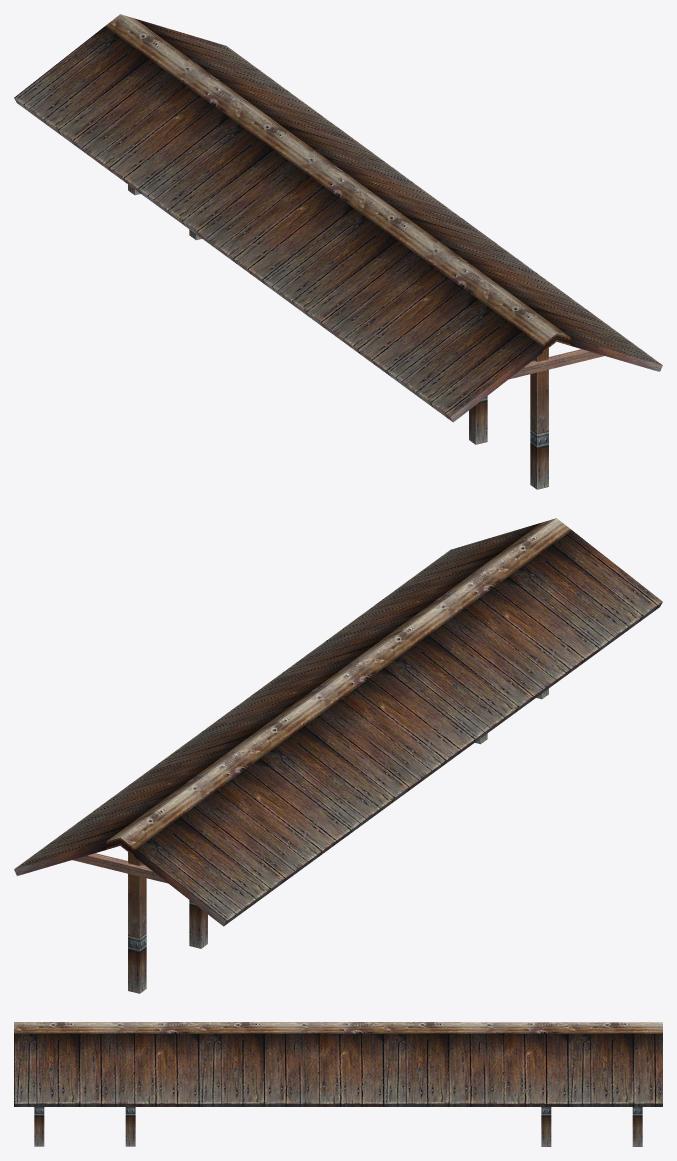
The picture shows the model from 3 angles, top to bottom: view 1: azimuth 30°, elevation 25°; view 2: azimuth 150°, elevation 25°; view 3: azimuth 270°, elevation 25°; orthographic projection. The views are drawn at different scales.
Visible parts, largest first — view 1: tn3_v3; view 2: tn3_v3; view 3: tn3_v3.
Part boxes in pixels (<box>): tn3_v3: <box>14,14,662,489</box>; tn3_v3: <box>14,518,662,993</box>; tn3_v3: <box>14,1022,662,1146</box>.
Size of the model in its own units: 5.4 by 4 by 19.2.
4 materials, 4 textured.
